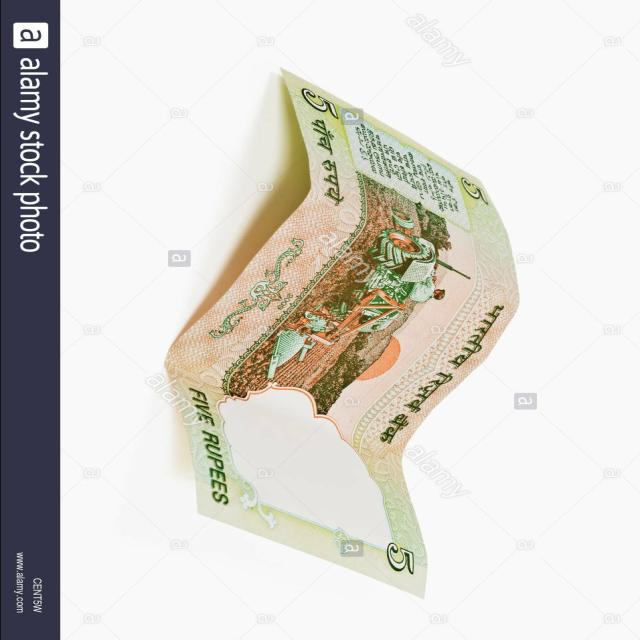5IndianRupees: (195, 96, 504, 597)
